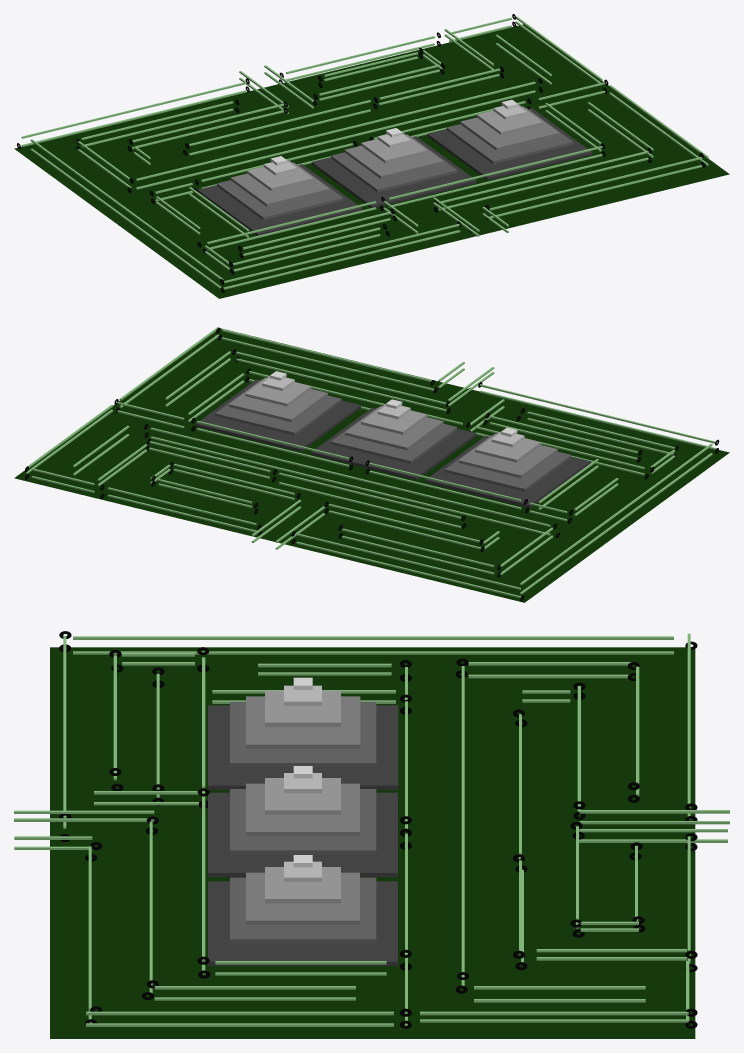
Rendered from enviornment_dipti 1.fbx.
3 renders of one model, top to bottom at view 1: azimuth 30°, elevation 25°; view 2: azimuth 150°, elevation 25°; view 3: azimuth 270°, elevation 25°, orthographic. The views are drawn at different scales.
Parts seen in each view (by area): view 1: pPlane1, pasted__pCube1, pCube1, pasted__pasted__pasted__pasted__pasted__pasted__pasted__past (×4), pasted__pCube6, pasted__pasted__pasted__pasted__pasted__pasted__pasted__pCub (×3), pasted__pasted__pCube5, pasted__pCube5, pasted__pasted__pCube8, pasted__pasted__pCube1, pasted__pasted__pCube6, pasted__pCube7 (+14 smaller); view 2: pPlane1, pCube1, pasted__pCube1, pasted__pCube6, pasted__pasted__pasted__pasted__pasted__pasted__pasted__past (×4), pasted__pasted__pasted__pasted__pasted__pasted__pasted__pCub (×3), pasted__pasted__pCube8, pasted__pasted__pCube5, pasted__pCube5, pasted__pasted__pCube1, pasted__pasted__pCube6, pasted__pCube7 (+18 smaller); view 3: pPlane1, pasted__pCube1, pCube1, pasted__pCube6, pasted__pasted__pCube5, pasted__pCube5, pasted__pasted__pCube8, pasted__pCube7, pasted__pasted__pCube6, pasted__pasted__pCube1, pasted__pasted__pasted__pasted__pCube9, pasted__pCube3 (+22 smaller).
Boxes of the visible parts, x1,y1,x2,y2 form: pPlane1: [14, 24, 729, 298]; pasted__pCube1: [427, 108, 592, 180]; pCube1: [311, 136, 476, 207]; pasted__pasted__pasted__pasted__pasted__pasted__pasted__past (×4): [21, 90, 702, 289]; pasted__pCube6: [197, 164, 362, 235]; pasted__pasted__pasted__pasted__pasted__pasted__pasted__pCub (×3): [21, 82, 535, 283]; pasted__pasted__pCube5: [446, 108, 573, 163]; pasted__pCube5: [331, 136, 457, 192]; pasted__pasted__pCube8: [217, 164, 343, 220]; pasted__pasted__pCube1: [460, 106, 559, 150]; pasted__pasted__pCube6: [230, 162, 329, 206]; pasted__pCube7: [344, 134, 443, 178]; pPlane1: [14, 328, 729, 602]; pCube1: [311, 408, 476, 480]; pasted__pCube1: [195, 379, 360, 451]; pasted__pCube6: [425, 435, 590, 507]; pasted__pasted__pasted__pasted__pasted__pasted__pasted__past (×4): [221, 329, 716, 598]; pasted__pasted__pasted__pasted__pasted__pasted__pasted__pCub (×3): [150, 384, 716, 589]; pasted__pasted__pCube8: [444, 435, 571, 491]; pasted__pasted__pCube5: [215, 379, 341, 435]; pasted__pCube5: [331, 407, 457, 463]; pasted__pasted__pCube1: [228, 377, 327, 422]; pasted__pasted__pCube6: [458, 434, 557, 478]; pasted__pCube7: [344, 406, 443, 450]; pPlane1: [50, 647, 695, 1038]; pasted__pCube1: [208, 881, 397, 965]; pCube1: [208, 792, 397, 877]; pasted__pCube6: [208, 705, 398, 789]; pasted__pasted__pCube5: [230, 877, 376, 943]; pasted__pCube5: [230, 789, 376, 854]; pasted__pasted__pCube8: [230, 701, 376, 767]; pasted__pCube7: [246, 783, 359, 836]; pasted__pasted__pCube6: [246, 696, 360, 748]; pasted__pasted__pCube1: [246, 872, 359, 924]; pasted__pasted__pasted__pasted__pCube9: [73, 636, 673, 639]; pasted__pCube3: [265, 778, 340, 814].
Size of the model in its own units: 48.74 by 4.24 by 37.66.
